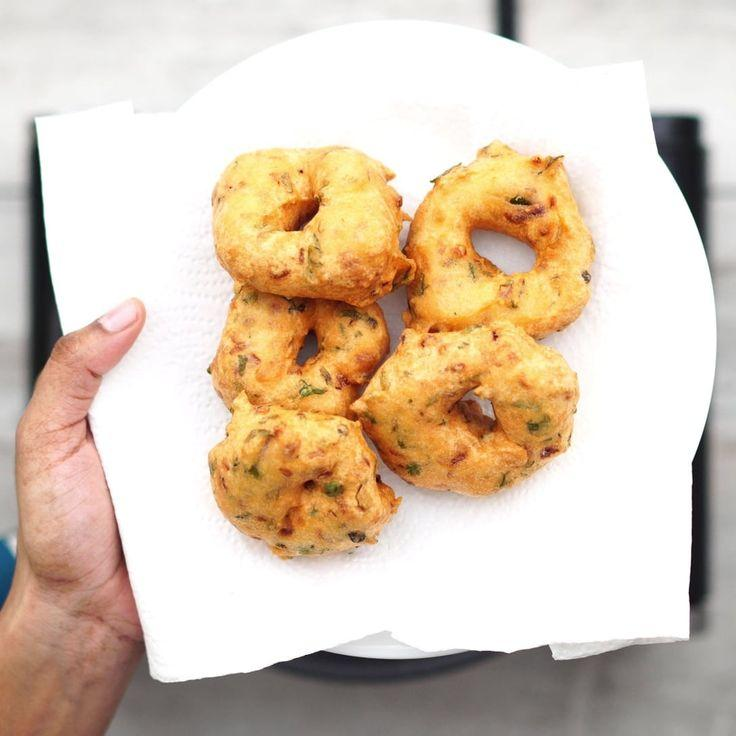medu vada: (187, 120, 609, 569)
